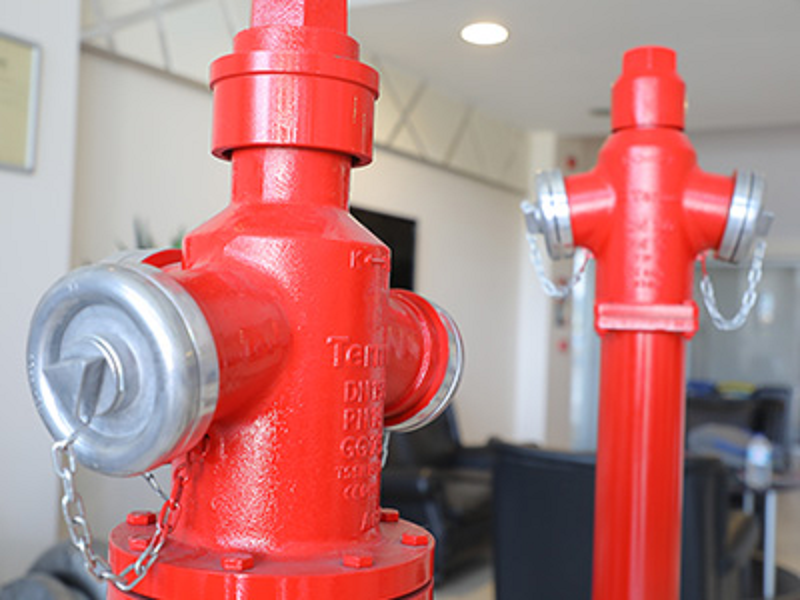FireHydrant: (33, 4, 469, 596), (509, 39, 775, 594)
